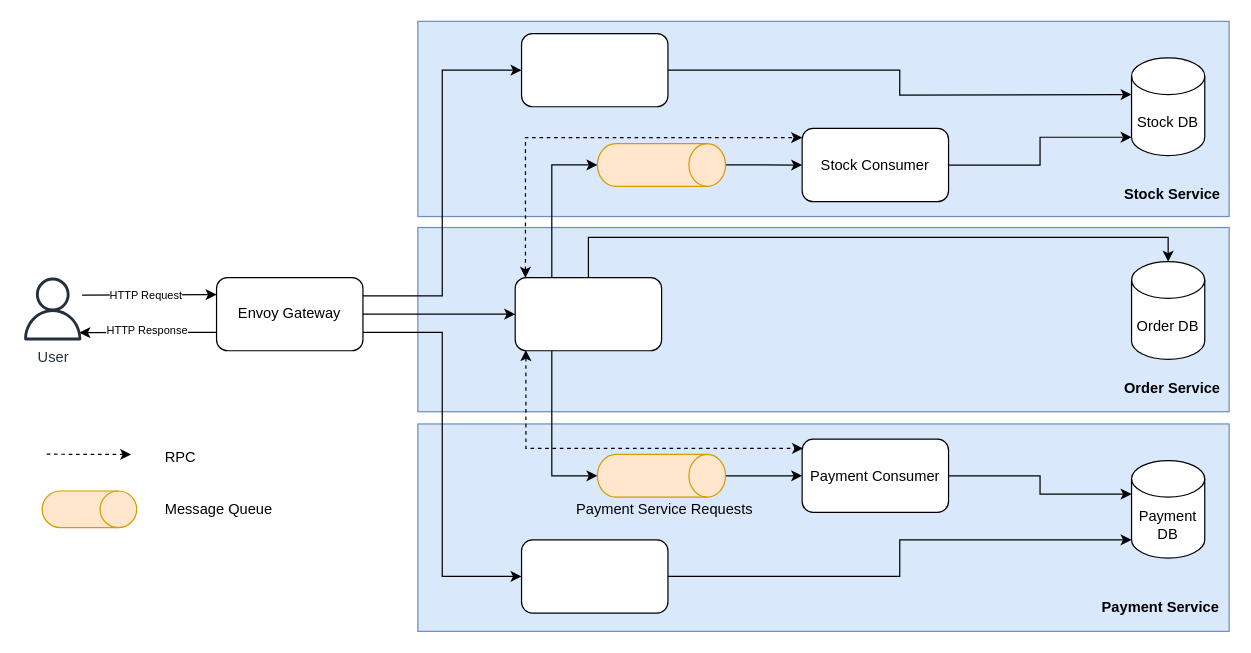
This 1251x653 diagram has some shape labels left out. The centre of each missing label's shape, as x and y in pixels:
"Order API" goes at pixel 588 313.
"Payment API" goes at pixel 594 576.
"Stock API" goes at pixel 594 69.
"Stock Service Requests" goes at pixel 661 164.
